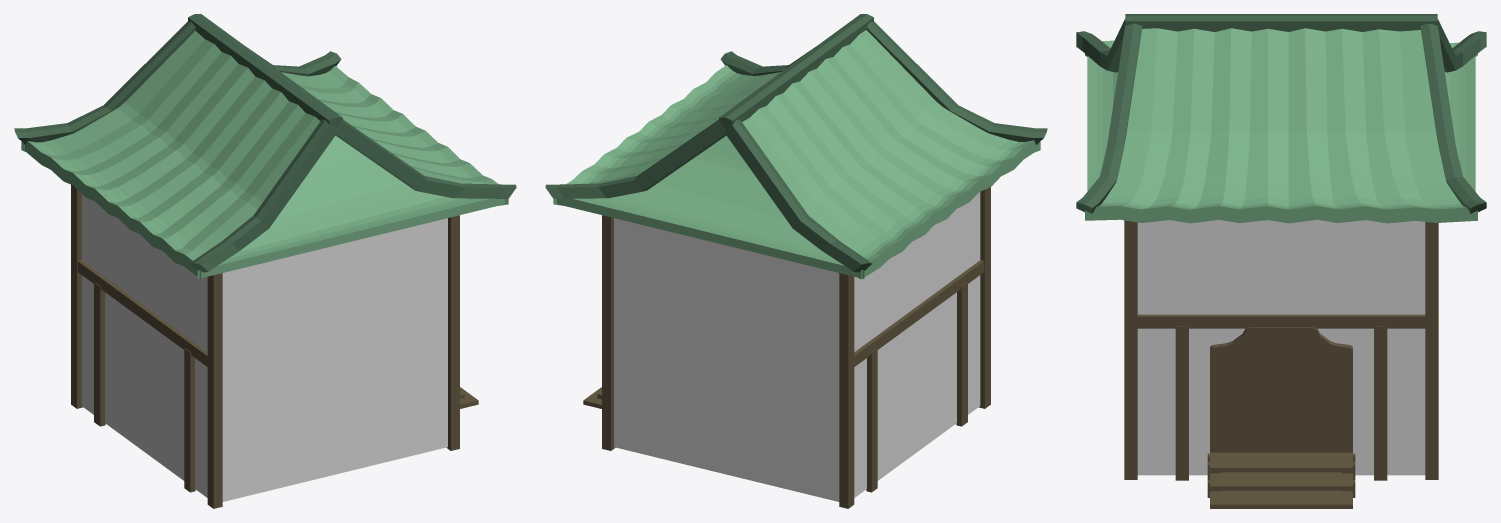
The model's file is house.fbx.
The picture shows the model from 3 angles, left to right: view 1: azimuth 30°, elevation 25°; view 2: azimuth 150°, elevation 25°; view 3: azimuth 270°, elevation 25°; orthographic projection. The views are drawn at different scales.
Visible parts, largest first — view 1: Cube.001, Plane.001, Cube.013, Cube.006, Cube.004; view 2: Cube.001, Plane.001, Cube.013, Cube.006, Cube.004; view 3: Plane.001, Cube.001, Cube.005, Cube.008, Cube.013, Cube.006, Cube.004.
Boxes of the visible parts, bbox=[...] form: Cube.001: bbox=[81, 194, 447, 501]; Plane.001: bbox=[14, 14, 516, 279]; Cube.013: bbox=[71, 184, 459, 508]; Cube.006: bbox=[94, 282, 195, 492]; Cube.004: bbox=[77, 260, 207, 366]; Cube.001: bbox=[614, 192, 980, 501]; Plane.001: bbox=[545, 14, 1047, 279]; Cube.013: bbox=[602, 187, 990, 508]; Cube.006: bbox=[866, 282, 967, 492]; Cube.004: bbox=[854, 260, 984, 366]; Plane.001: bbox=[1076, 14, 1486, 223]; Cube.001: bbox=[1137, 219, 1425, 475]; Cube.005: bbox=[1210, 327, 1352, 452]; Cube.008: bbox=[1210, 452, 1352, 508]; Cube.013: bbox=[1124, 220, 1438, 479]; Cube.006: bbox=[1175, 326, 1387, 480]; Cube.004: bbox=[1137, 314, 1425, 328].
Size of the model in its own units: 4796 by 4835 by 4513.
